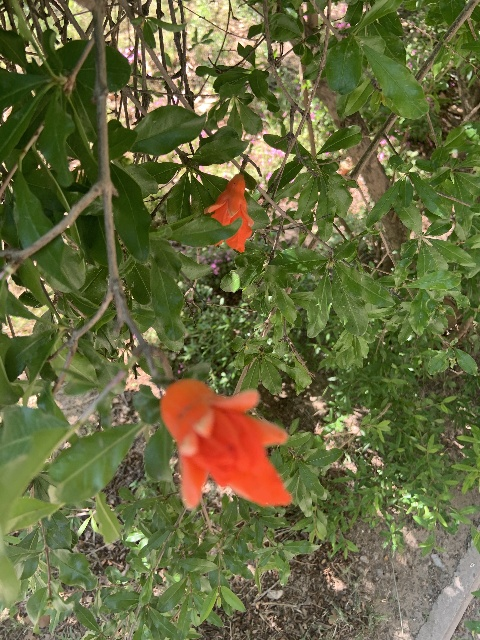flower: (161, 380, 292, 510), (204, 173, 254, 252)
